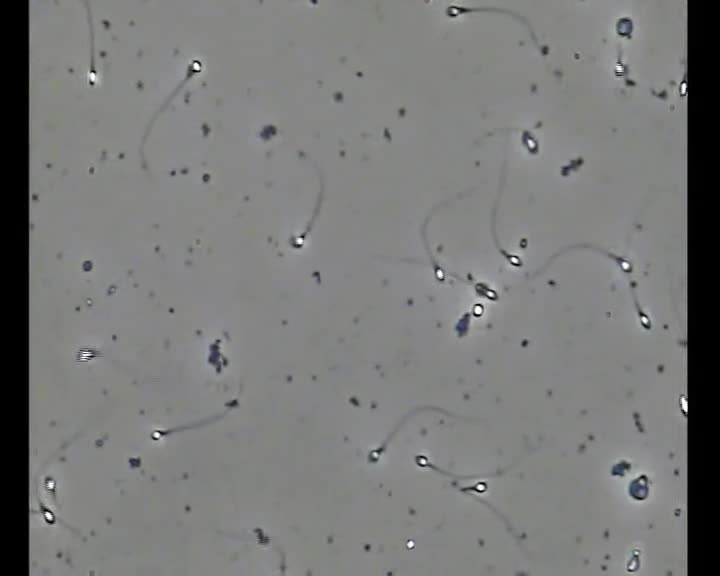spermhead: (502, 250, 522, 267), (446, 5, 469, 18), (43, 474, 56, 495), (187, 59, 203, 75), (414, 453, 430, 468), (368, 447, 383, 462), (434, 264, 446, 282), (290, 234, 305, 248), (87, 68, 98, 86), (472, 302, 484, 317)
